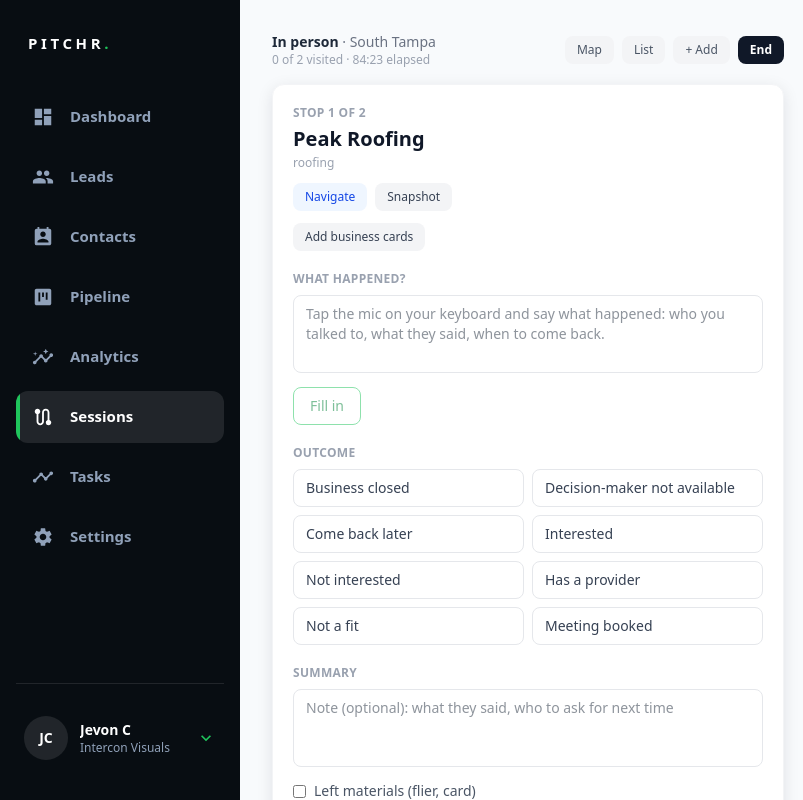
Scenario: RunSessionPage (visits) › logs an outcome with the contact spoken to, then moves to the next stop
This screenshot has width=803, height=800.
Check: the heading "Peak Roofing" is shown, box [293, 125, 425, 152]
Step 1. Click the button "Interested" → [648, 534], box [532, 515, 763, 553]
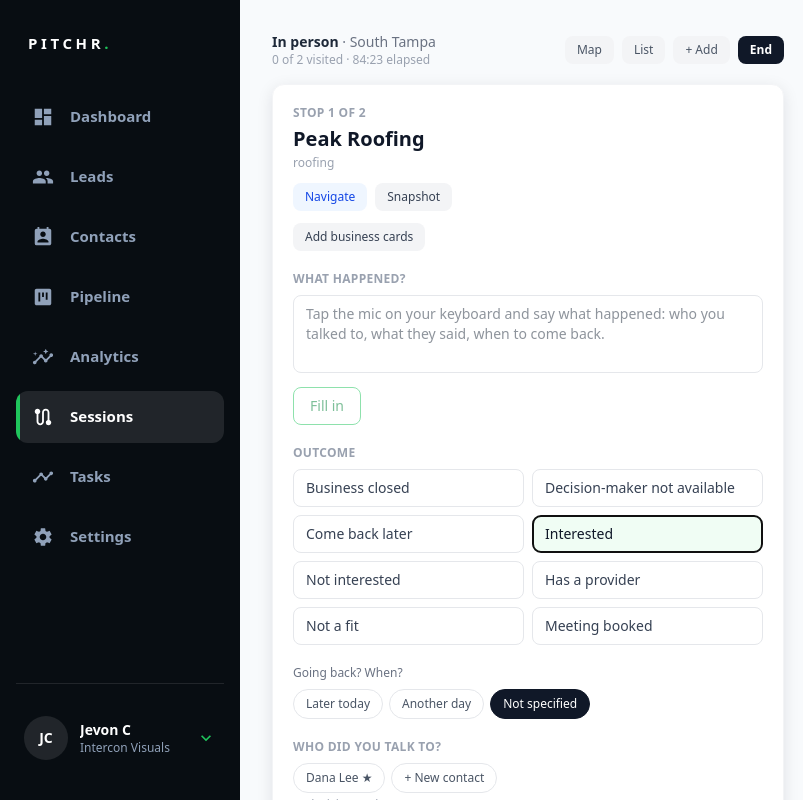
Step 2. Click the button "Dana Lee ★" → [339, 778], box [293, 763, 386, 793]
(page scrolled)
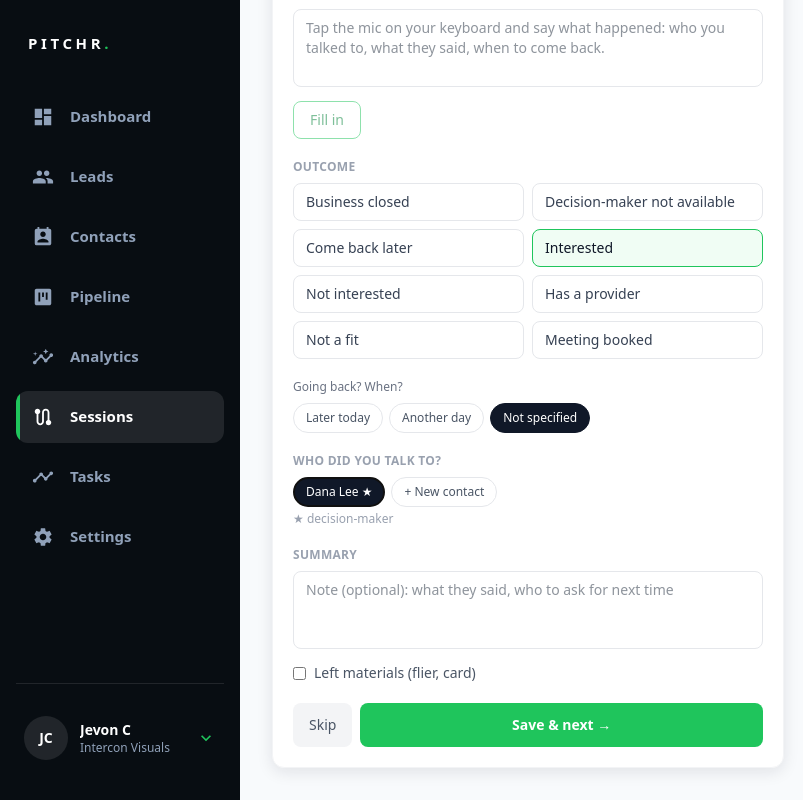
Step 3. Type "Wants pricing" into the text box with placeholder "Note (optional): what they said, who to ask for next time" → [528, 610], box [293, 571, 763, 649]
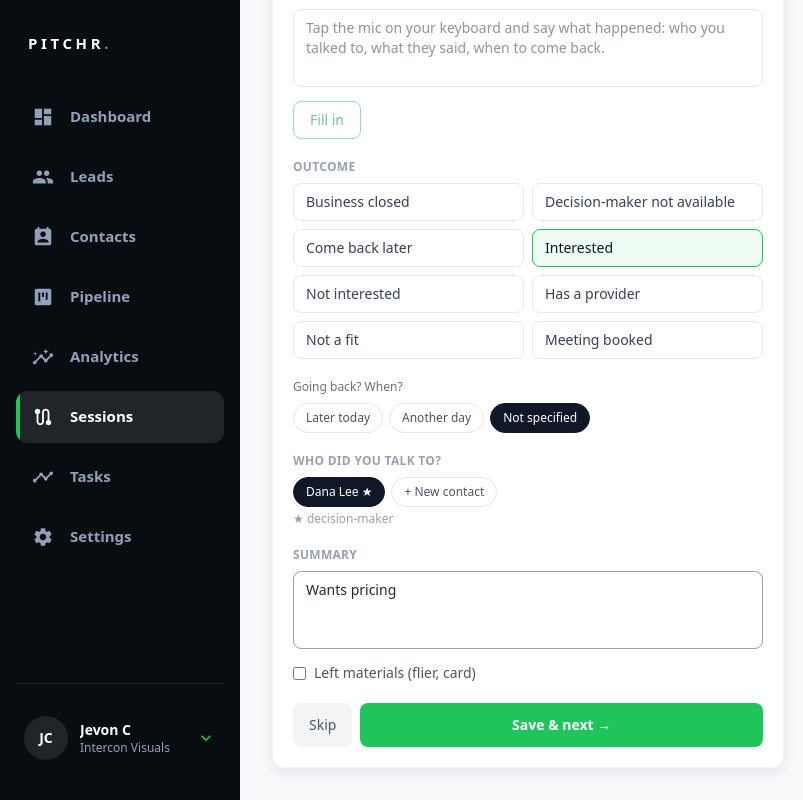
Step 4. Click the button "Save & next →" → [562, 725], box [360, 703, 763, 747]
(page scrolled)
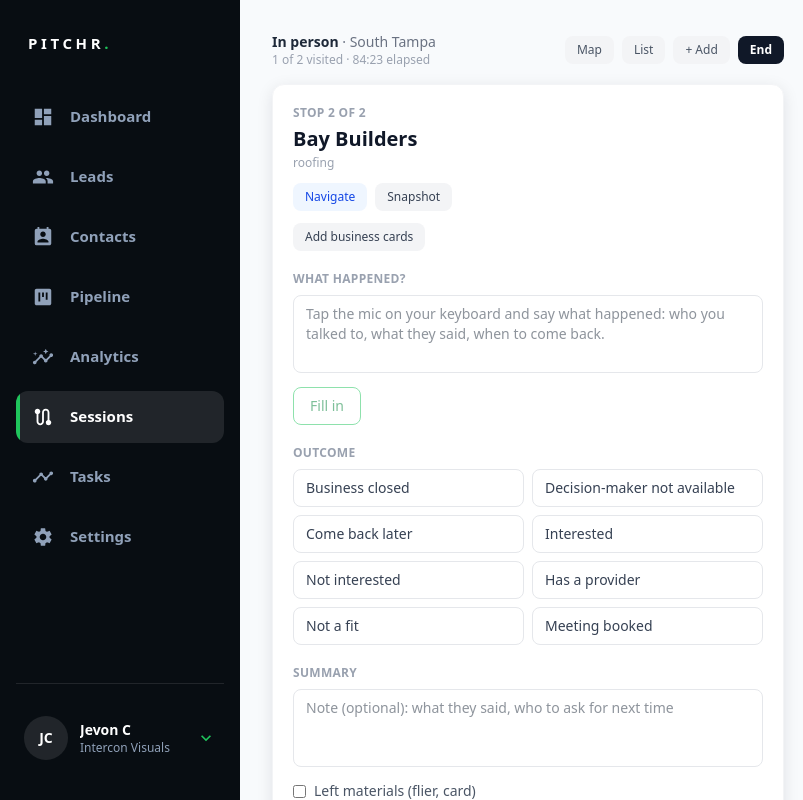
Check: the heading "Bay Builders" is shown, box [293, 125, 417, 152]
Check: the text "Stop 2 of 2" is shown, box [293, 105, 366, 121]
